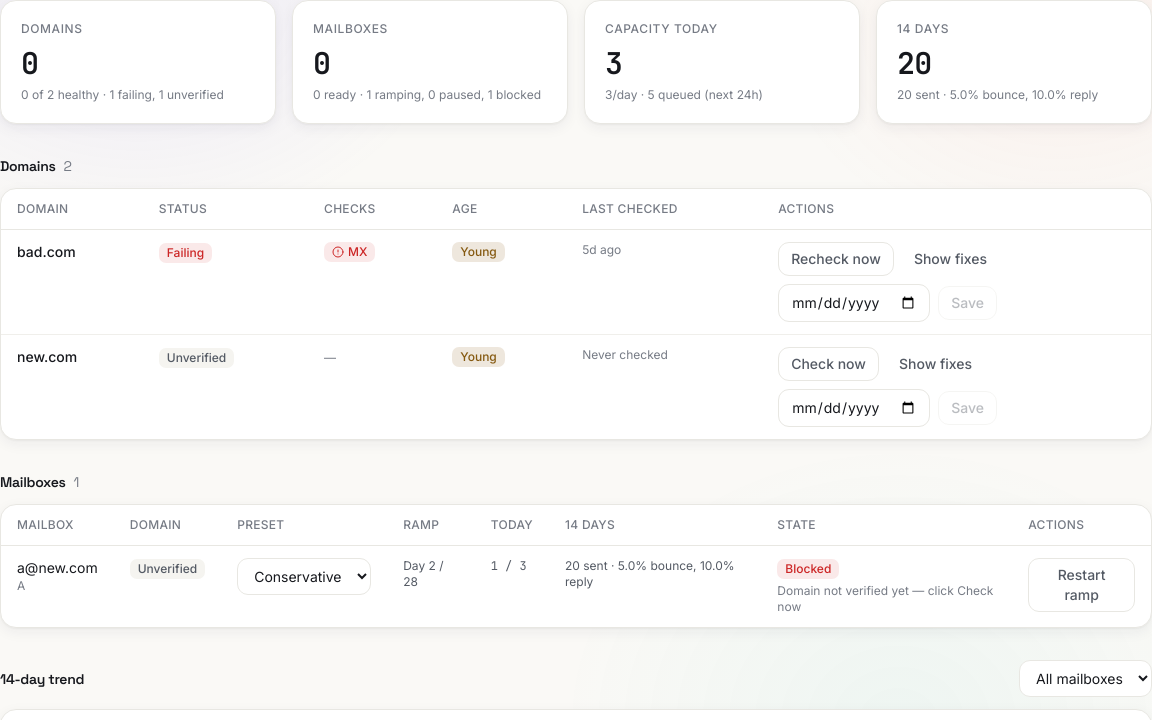
DeliverabilityClient › a 429 shows the wait message instead of failing silently
Click the button "Check now" at x=828, y=364, box [778,347,879,381]
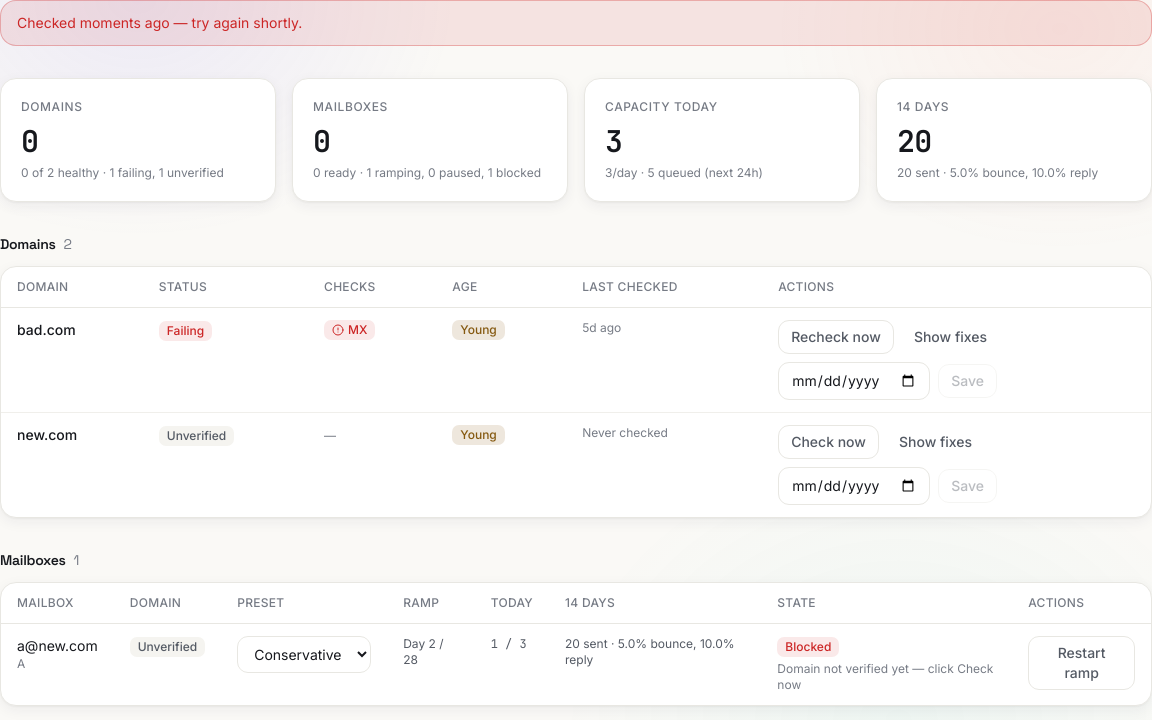
Expected: the message shows "try again", [17,14,302,31]
